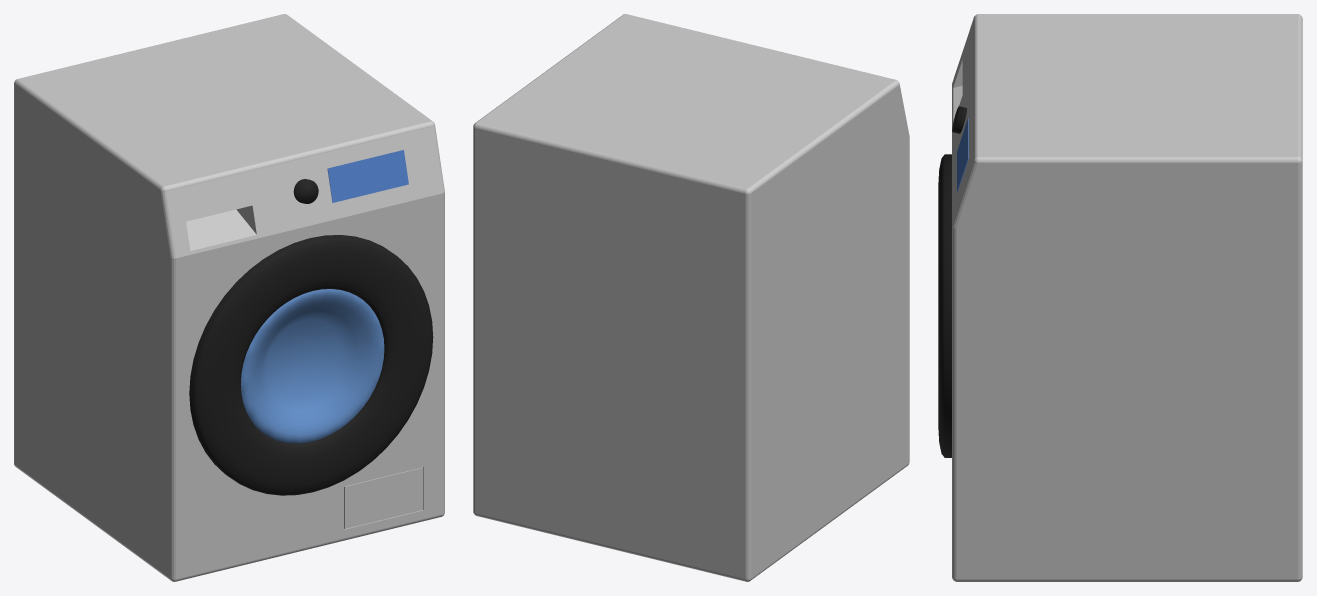
File: kitchen_only_lavadora.obj
3 views of the same model, side by side, from view 1: azimuth 30°, elevation 25°; view 2: azimuth 150°, elevation 25°; view 3: azimuth 270°, elevation 25° (orthographic). The views are drawn at different scales.
Visible parts, largest first — view 1: WashingMachineShape; view 2: WashingMachineShape; view 3: WashingMachineShape.
Boxes of the visible parts, bbox=[...] form: WashingMachineShape: bbox=[14, 14, 444, 581]; WashingMachineShape: bbox=[473, 14, 909, 581]; WashingMachineShape: bbox=[938, 14, 1302, 581].
Bounding box in the file's own units: 0.5784 × 0.783 × 0.6083.
